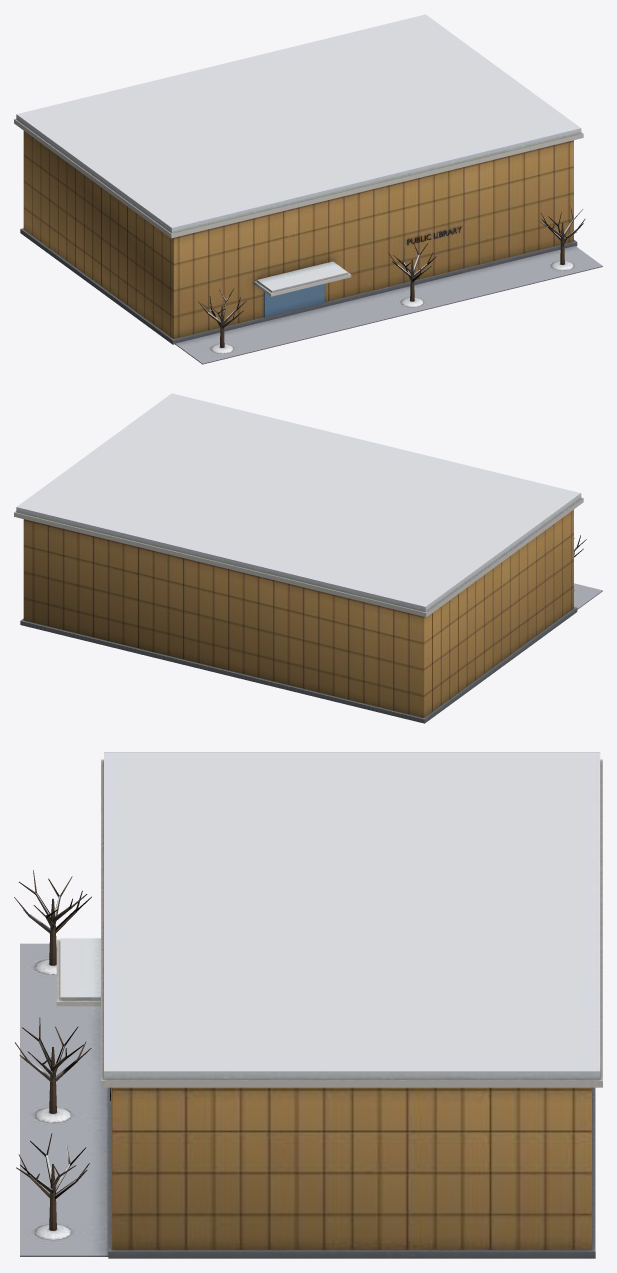
The model's file is biblioteca_dm.glb.
3 renders of one model, top to bottom at view 1: azimuth 30°, elevation 25°; view 2: azimuth 150°, elevation 25°; view 3: azimuth 270°, elevation 25°, orthographic. The views are drawn at different scales.
Parts seen in each view (by area): view 1: biblioteca_dm; view 2: biblioteca_dm; view 3: biblioteca_dm.
Part boxes in pixels (box(x1,y1,x2,y2)): biblioteca_dm: box(14, 14, 602, 364); biblioteca_dm: box(14, 393, 602, 723); biblioteca_dm: box(14, 752, 602, 1258).
Bounding box in the file's own units: 41.2 × 11.57 × 31.92.
1 material, 1 textured.
